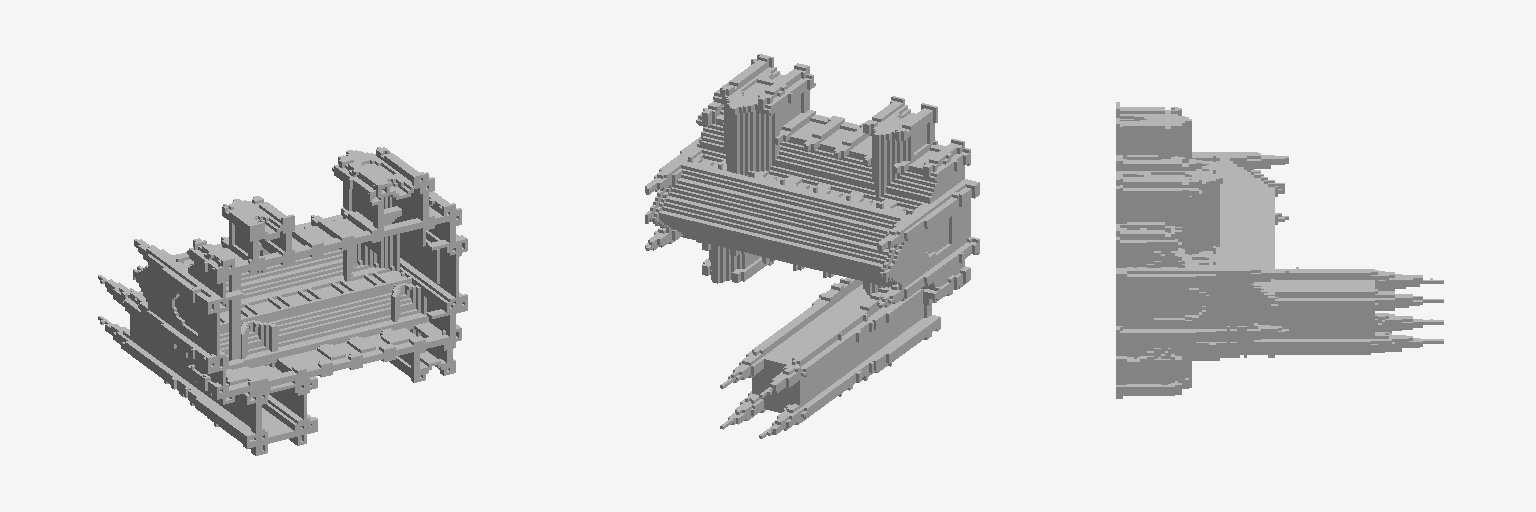
Rendered from church.obj.
The picture shows the model from 3 angles: view 1: azimuth 30°, elevation 25°; view 2: azimuth 150°, elevation 25°; view 3: azimuth 270°, elevation 25°; orthographic projection.
Parts seen in each view (by area): view 1: object 1; view 2: object 1; view 3: object 1.
Boxes of the visible parts, x1=… form: object 1: x1=98, y1=147, x2=467, y2=455; object 1: x1=645, y1=54, x2=979, y2=438; object 1: x1=1116, y1=102, x2=1443, y2=398.
Bounding box in the file's own units: 8.7 × 7.7 × 9.5.